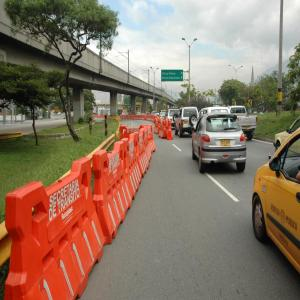Vehicle-registration-plate: (221, 140, 232, 148), (246, 127, 250, 130), (185, 122, 188, 125)
